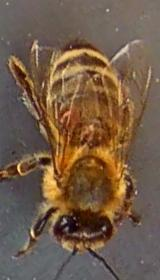varroa_mite: (52, 103, 80, 132)
